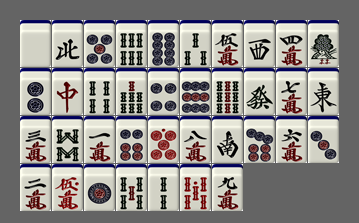0m: (52, 164, 83, 211)
0p: (148, 116, 179, 163)
0s: (180, 164, 211, 211)
1m: (84, 116, 115, 163)
1p: (84, 164, 115, 211)
1s: (308, 20, 339, 67)
1z: (308, 68, 339, 115)
2m: (20, 164, 51, 211)
2p: (20, 68, 51, 115)
2s: (148, 164, 179, 211)
2z: (212, 116, 243, 163)
3m: (20, 116, 51, 163)
3p: (308, 116, 339, 163)
3s: (180, 20, 211, 67)
3z: (244, 20, 275, 67)
4m: (276, 20, 307, 67)
4p: (148, 68, 179, 115)
4s: (84, 68, 115, 115)
4z: (52, 20, 83, 67)
5m: (212, 20, 243, 67)
5p: (84, 20, 115, 67)
5s: (116, 164, 147, 211)
5z: (20, 20, 51, 67)
6m: (276, 116, 307, 163)
6p: (116, 116, 147, 163)
6s: (116, 20, 147, 67)
6z: (244, 68, 275, 115)
7m: (276, 68, 307, 115)
7p: (244, 116, 275, 163)
7s: (116, 68, 147, 115)
7z: (52, 68, 83, 115)
8m: (180, 116, 211, 163)
8p: (148, 20, 179, 67)
8s: (52, 116, 83, 163)
9m: (212, 164, 243, 211)
9p: (180, 68, 211, 115)
9s: (212, 68, 243, 115)
